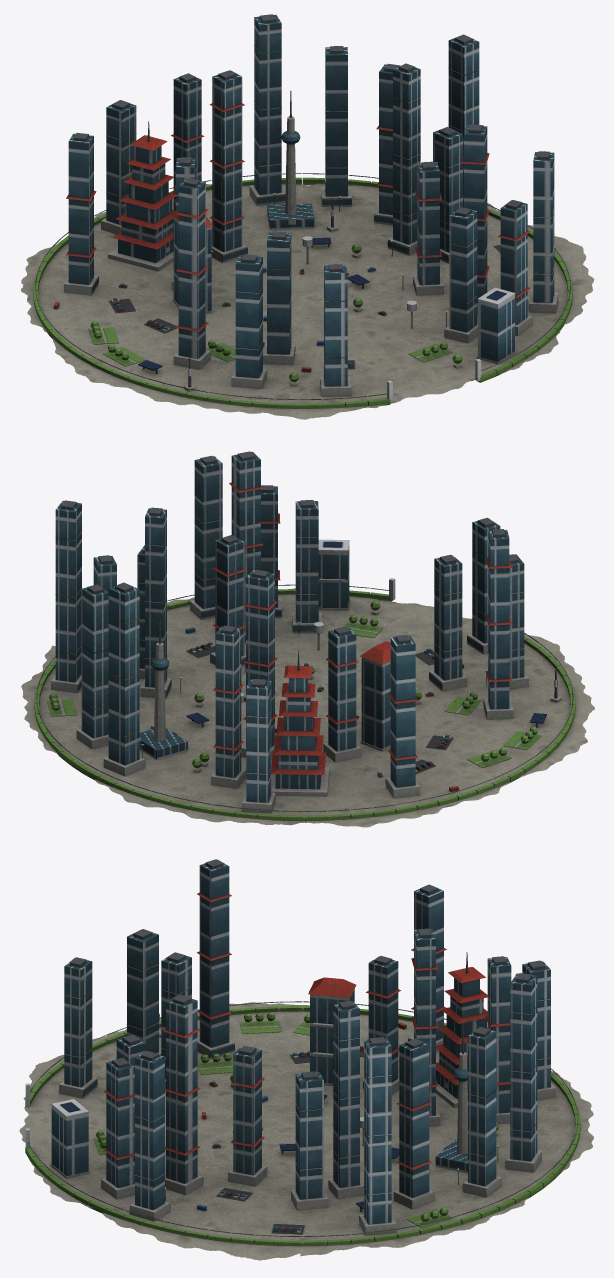
Rendered from information-town-big-b-sinic.glb.
3 views of the same model, one above another, from view 1: azimuth 30°, elevation 25°; view 2: azimuth 150°, elevation 25°; view 3: azimuth 270°, elevation 25° (orthographic). The views are drawn at different scales.
Parts seen in each view (by area): view 1: LOD0; view 2: LOD0; view 3: LOD0.
Part boxes in pixels (<box>): LOD0: <box>21,14,594,419</box>; LOD0: <box>21,451,594,827</box>; LOD0: <box>19,859,593,1260</box>.
Size of what is drawn, in the model's own units: 8.1 by 2.72 by 7.6.
3 materials, 3 textured.
